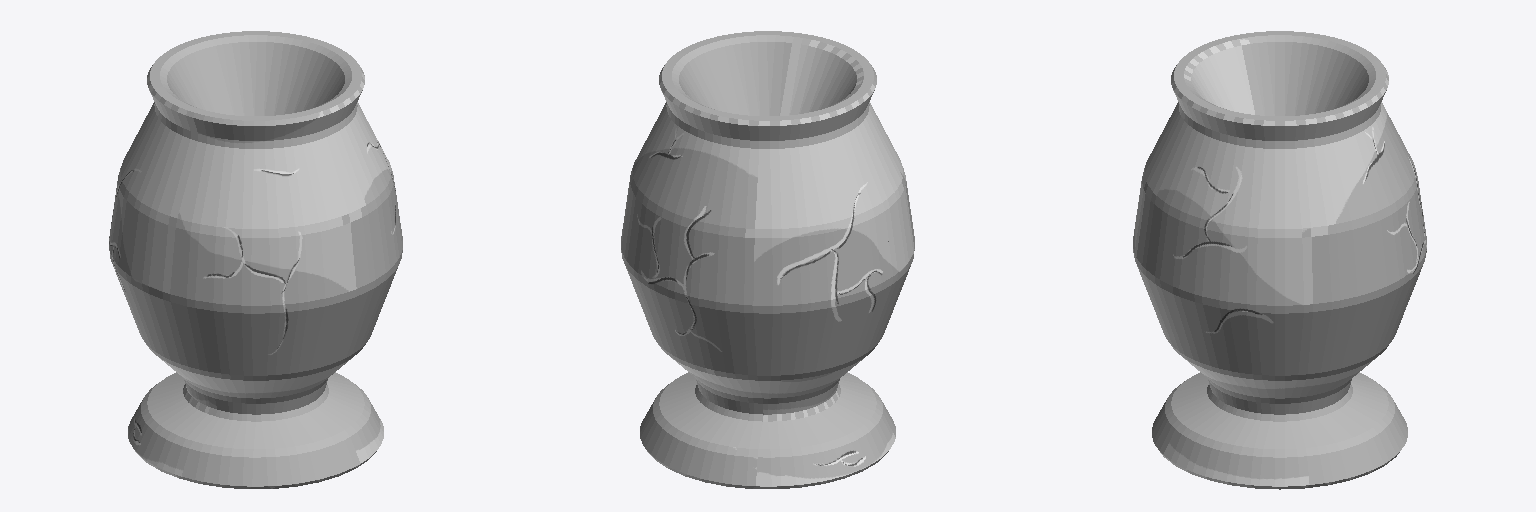
The picture shows the model from 3 angles: view 1: azimuth 30°, elevation 25°; view 2: azimuth 150°, elevation 25°; view 3: azimuth 270°, elevation 25°; orthographic projection.
Visible parts, largest first — view 1: Cylinder; view 2: Cylinder; view 3: Cylinder.
Part boxes in pixels (left/top/right/bottom): Cylinder: left=109, top=31, right=402, bottom=488; Cylinder: left=621, top=31, right=914, bottom=488; Cylinder: left=1133, top=31, right=1426, bottom=489.
Bounding box in the file's own units: 2.25 × 3.04 × 2.25.
Materials: 1 (1 with a texture image).